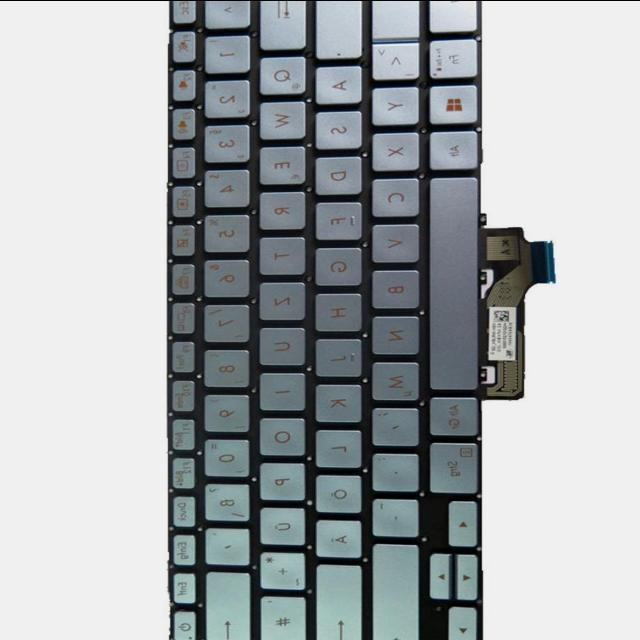0: (202, 436, 250, 476)
1: (203, 33, 249, 72)
2: (202, 78, 248, 117)
3: (201, 122, 249, 162)
4: (202, 167, 248, 206)
5: (202, 211, 249, 251)
6: (201, 256, 249, 296)
7: (201, 302, 249, 341)
8: (201, 347, 249, 387)
9: (201, 391, 249, 431)
a: (313, 63, 361, 103)
accent: (203, 525, 249, 564)
ae: (313, 517, 361, 557)
alt-left: (427, 129, 477, 169)
altgr-right: (427, 394, 477, 436)
b: (368, 267, 418, 308)
c: (370, 176, 418, 216)
caret: (201, 0, 248, 26)
comma: (369, 404, 418, 445)
d: (314, 154, 362, 194)
del: (203, 569, 251, 640)
e: (256, 144, 304, 184)
enter: (312, 561, 361, 640)
f: (313, 200, 361, 239)
g: (313, 245, 362, 285)
h: (312, 291, 361, 331)
hash: (259, 594, 306, 640)
i: (256, 370, 304, 410)
j: (312, 336, 362, 376)
k: (312, 382, 361, 422)
keyboard: (160, 0, 494, 640)
l: (313, 428, 362, 467)
less: (369, 40, 418, 79)
m: (369, 359, 419, 400)
minus: (370, 496, 417, 536)
n: (369, 313, 419, 354)
o: (257, 415, 305, 455)
oe: (313, 472, 362, 512)
p: (257, 460, 305, 500)
plus: (258, 550, 305, 589)
point: (370, 450, 418, 490)
q: (257, 53, 306, 95)
r: (257, 189, 305, 229)
s: (314, 108, 362, 148)
shift-left: (367, 0, 419, 37)
shift-lock: (312, 0, 362, 58)
shift-right: (368, 540, 418, 640)
space: (425, 173, 477, 391)
ss: (202, 480, 249, 520)
strg-left: (427, 1, 477, 31)
strg-right: (427, 439, 477, 493)
t: (257, 235, 305, 274)
tab: (255, 0, 304, 48)
u: (257, 324, 306, 365)
ue: (257, 505, 305, 545)
v: (369, 222, 418, 262)
w: (257, 99, 305, 139)
x: (370, 130, 418, 171)
y: (370, 84, 418, 124)
z: (257, 280, 305, 320)
